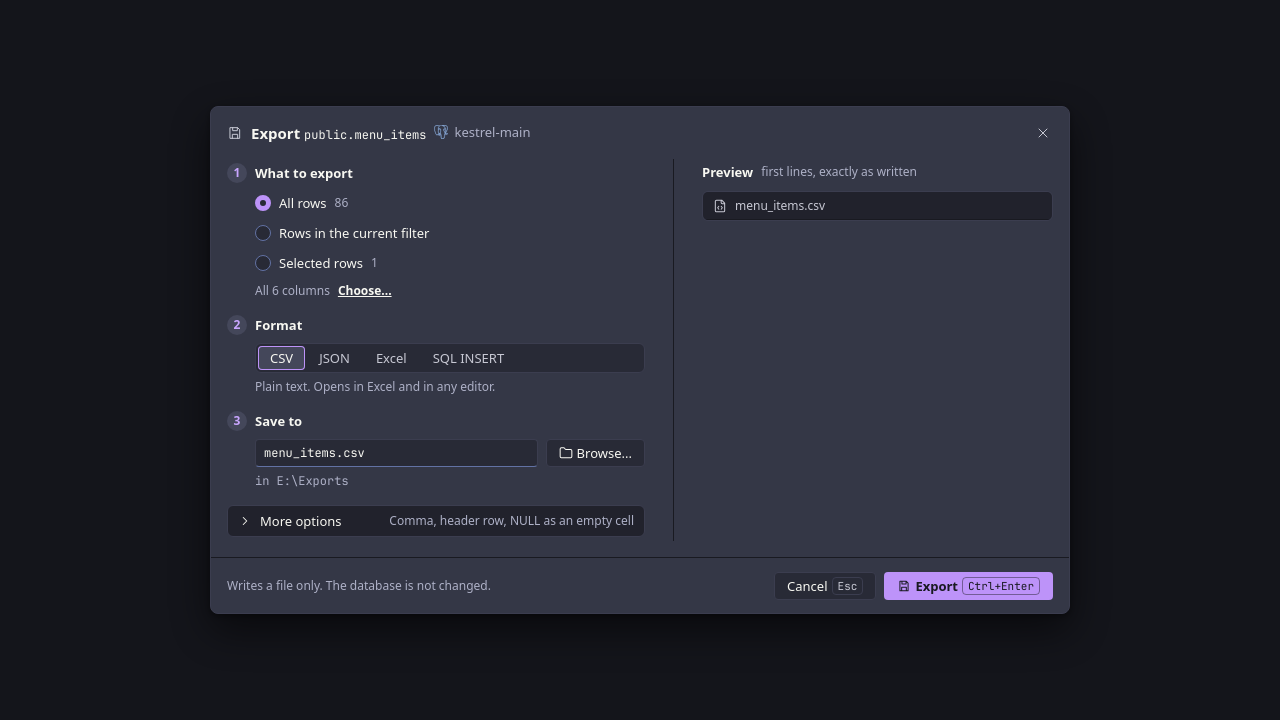
filter_choice_sends_the_filter_and_selected_sends_the_keys
Click the radio button labelled "Rows in the current filter" at (263, 233), box [255,225,271,241]
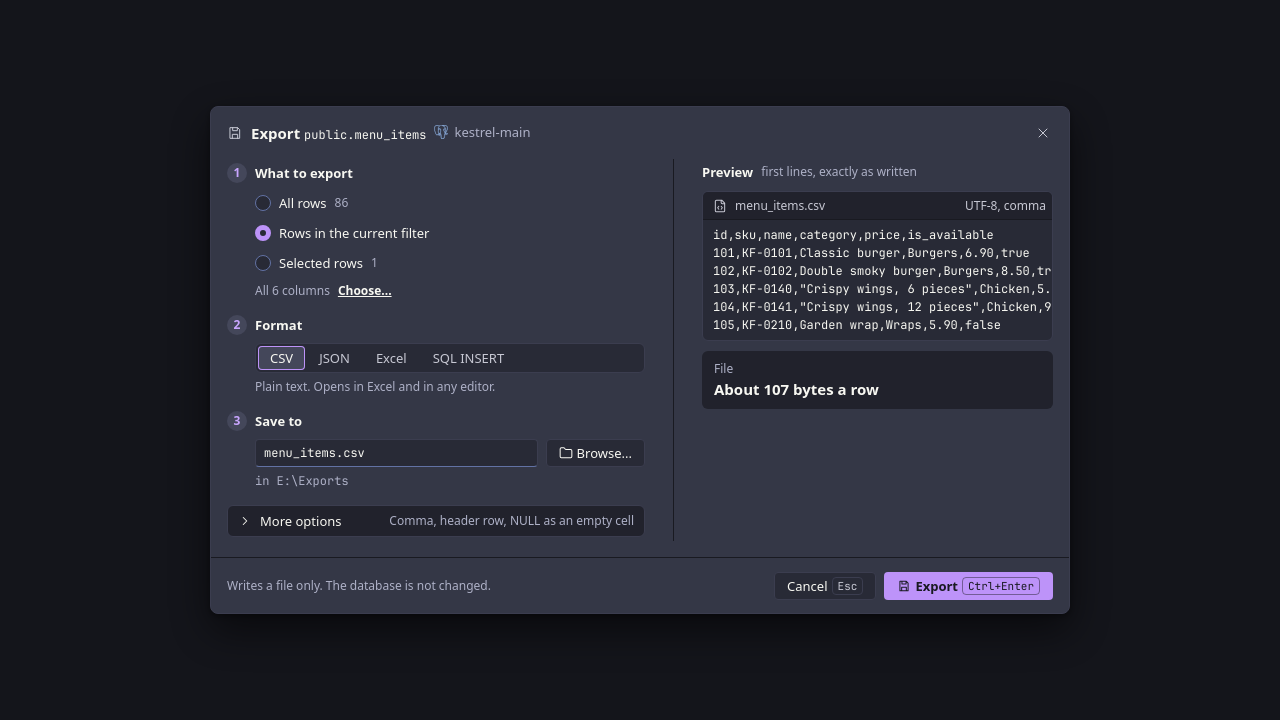
expect the text "About 107 bytes a row" is shown: met, box [714,379,879,399]
Click the radio button labelled "Selected rows 1" at (263, 263), box [255,255,271,271]
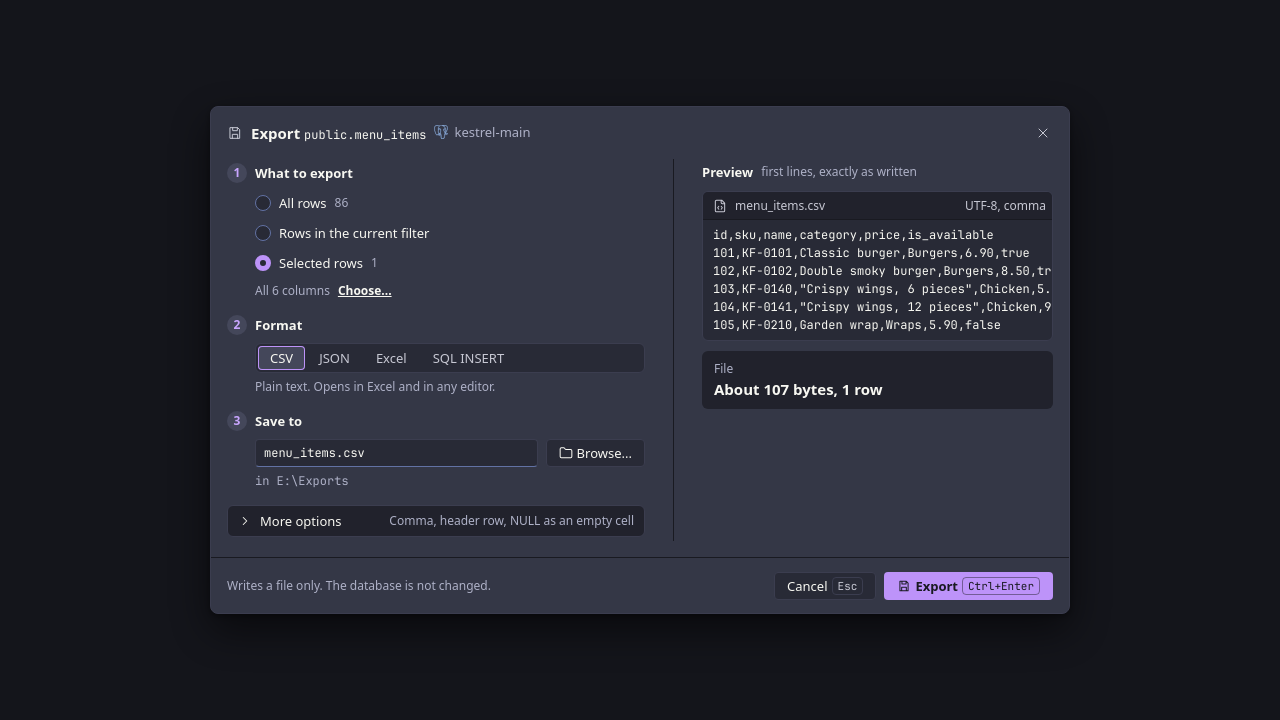
expect the text "About 107 bytes, 1 row" is shown: met, box [714,379,883,399]
